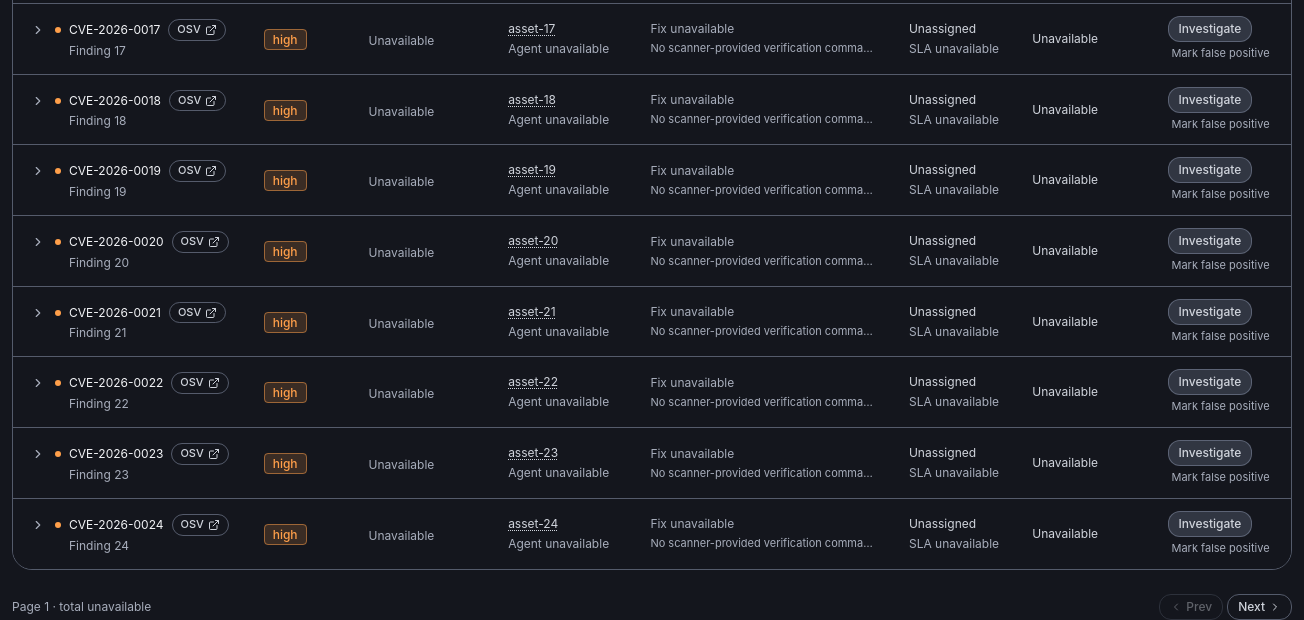
it: FindingsPage › follows opaque continuation while labeling an intentionally unknown total
(page scrolled)
expect the text "Page 1 · total unavailable" is shown: met, box [12, 599, 151, 615]
Click the button "Next" at (1260, 607), box [1227, 594, 1292, 619]
(page scrolled)
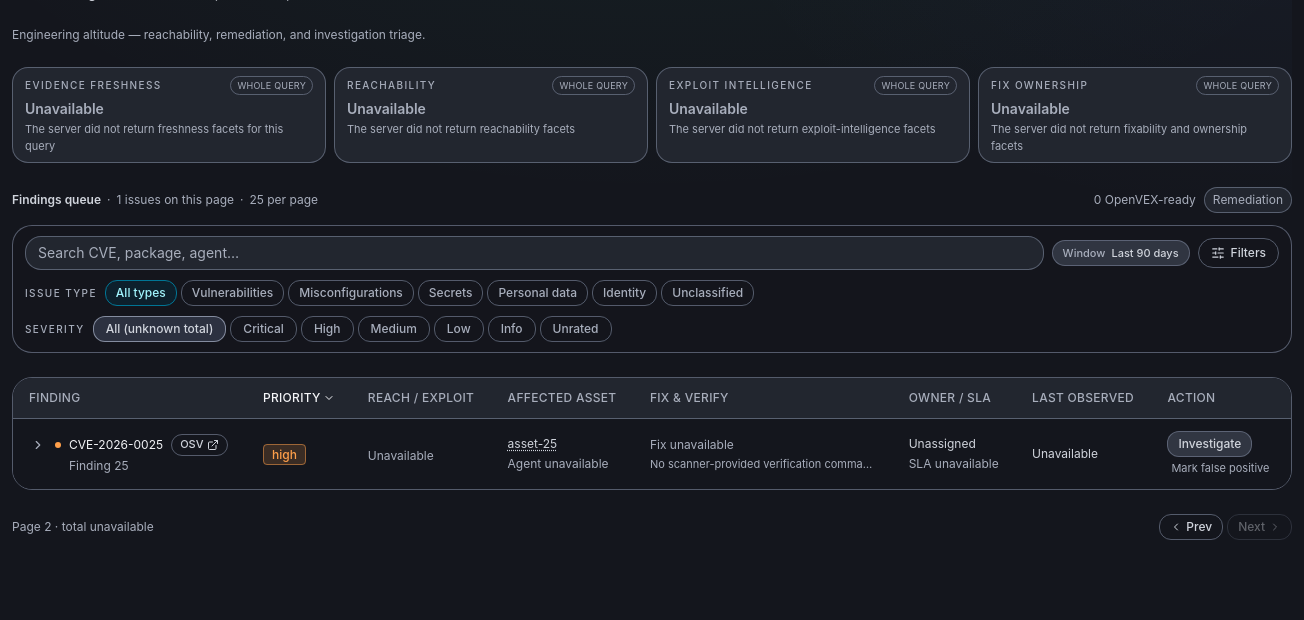
expect the text "Page 2 · total unavailable" is shown: met, box [12, 519, 154, 535]
expect the button "Next" is disabled: met, box [1227, 514, 1292, 540]
